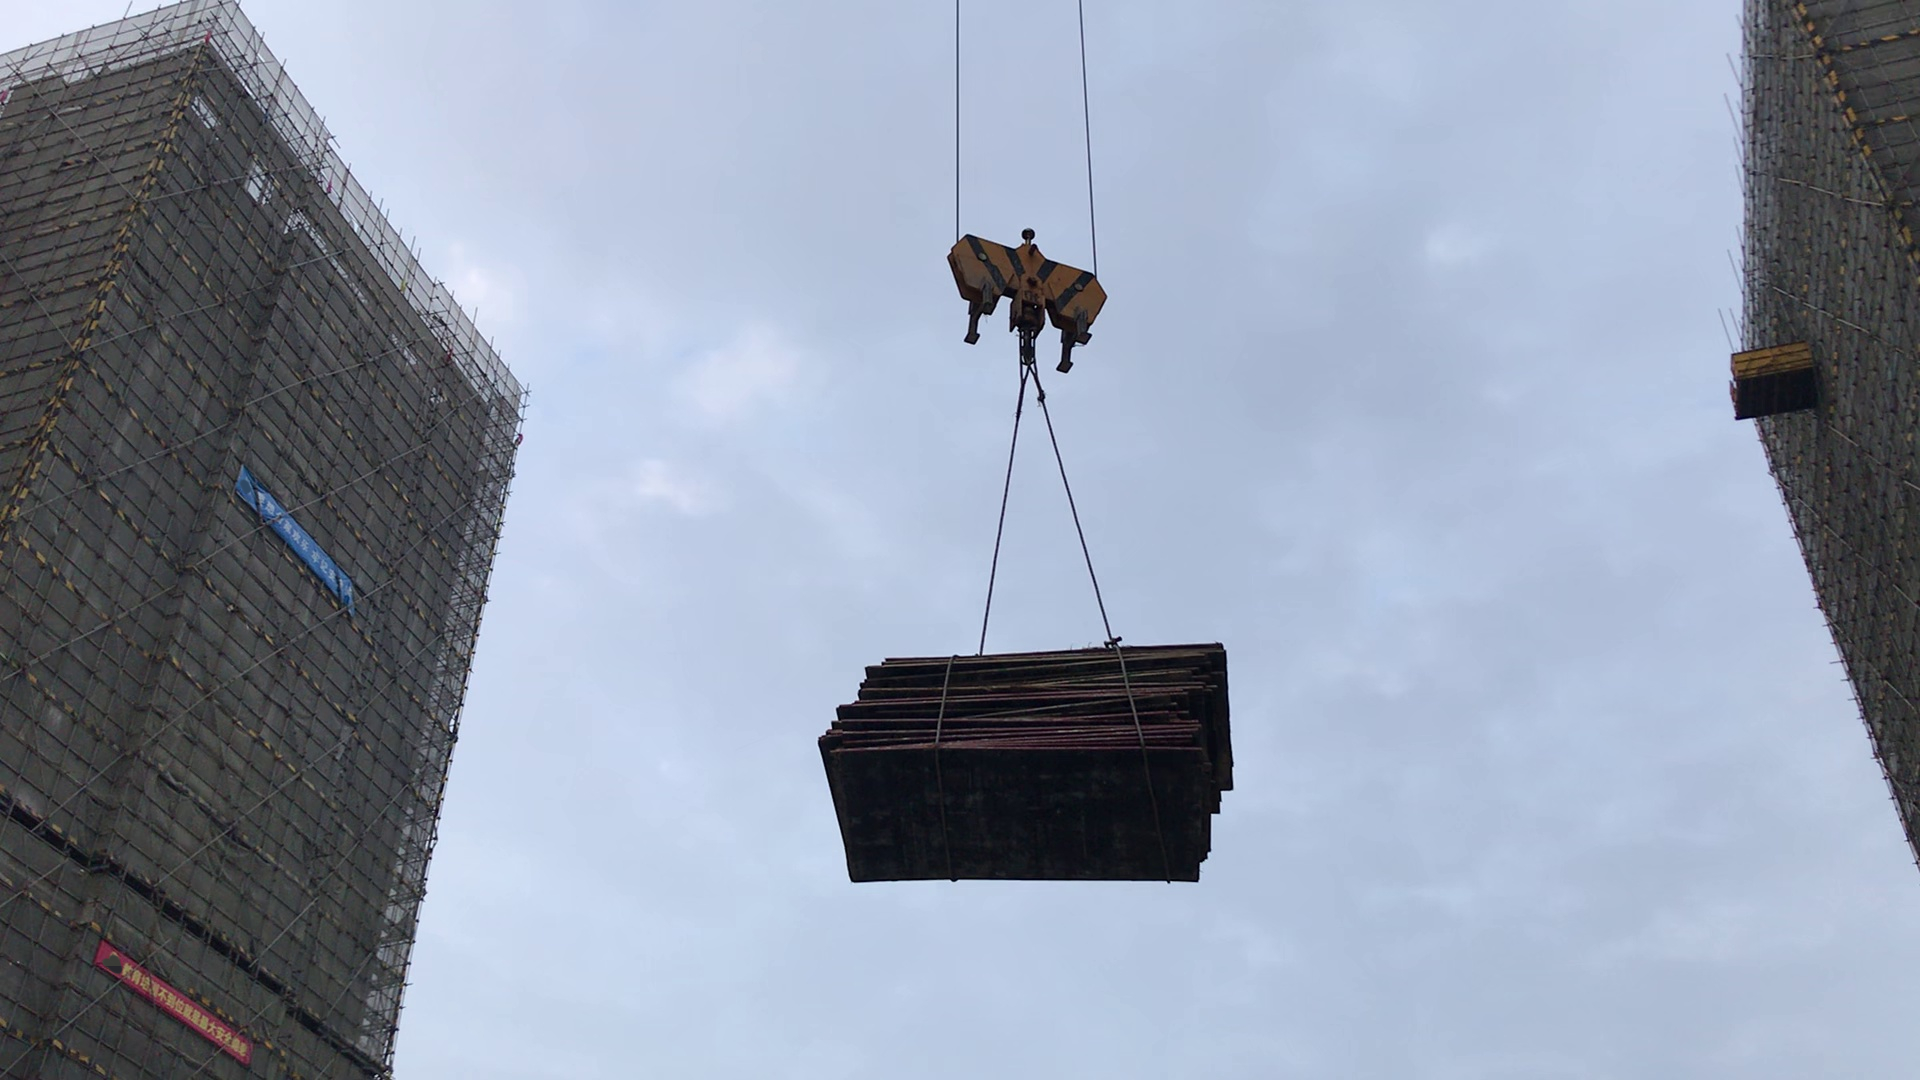board: (818, 638, 1240, 893)
hook: (928, 236, 1112, 382)
slogan: (98, 930, 255, 1068), (236, 458, 359, 620)
